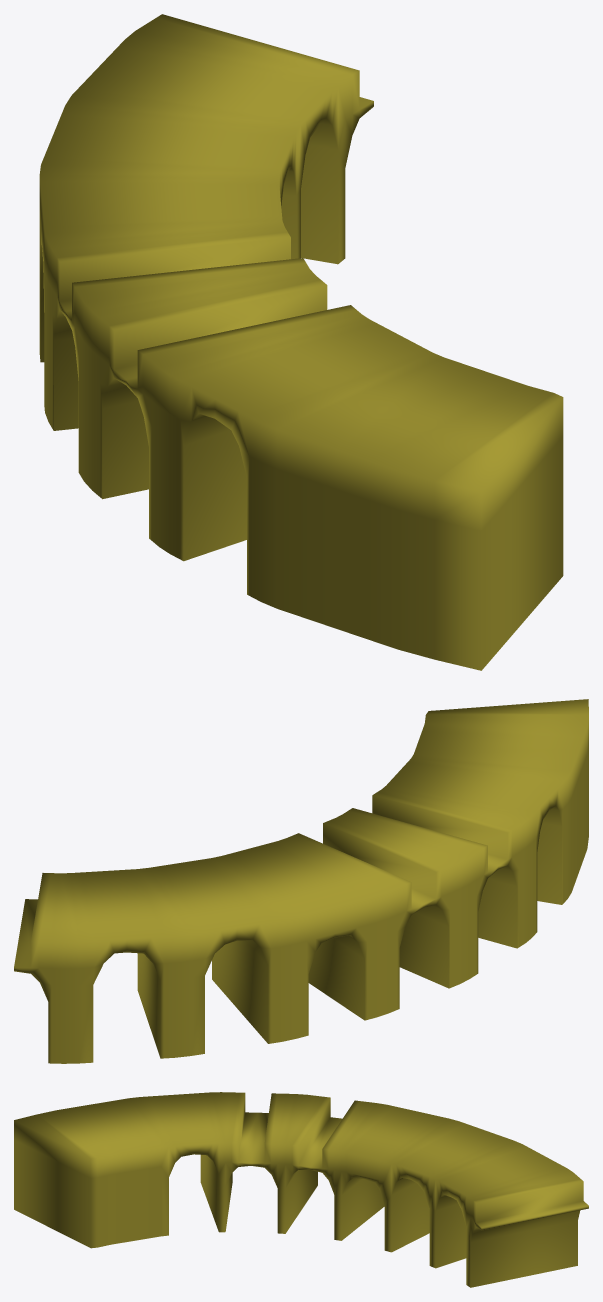
The model's file is ArenaStandsPrt2_UV.fbx.
The picture shows the model from 3 angles, top to bottom: view 1: azimuth 30°, elevation 25°; view 2: azimuth 150°, elevation 25°; view 3: azimuth 270°, elevation 25°; orthographic projection. The views are drawn at different scales.
Parts seen in each view (by area): view 1: Cylinder055; view 2: Cylinder055; view 3: Cylinder055.
Part boxes in pixels (box(x1,y1,x2,y2)): Cylinder055: box(39, 14, 563, 670); Cylinder055: box(14, 699, 588, 1063); Cylinder055: box(14, 1092, 588, 1287).
Bounding box in the file's own units: 65.35 × 23.51 × 137.
